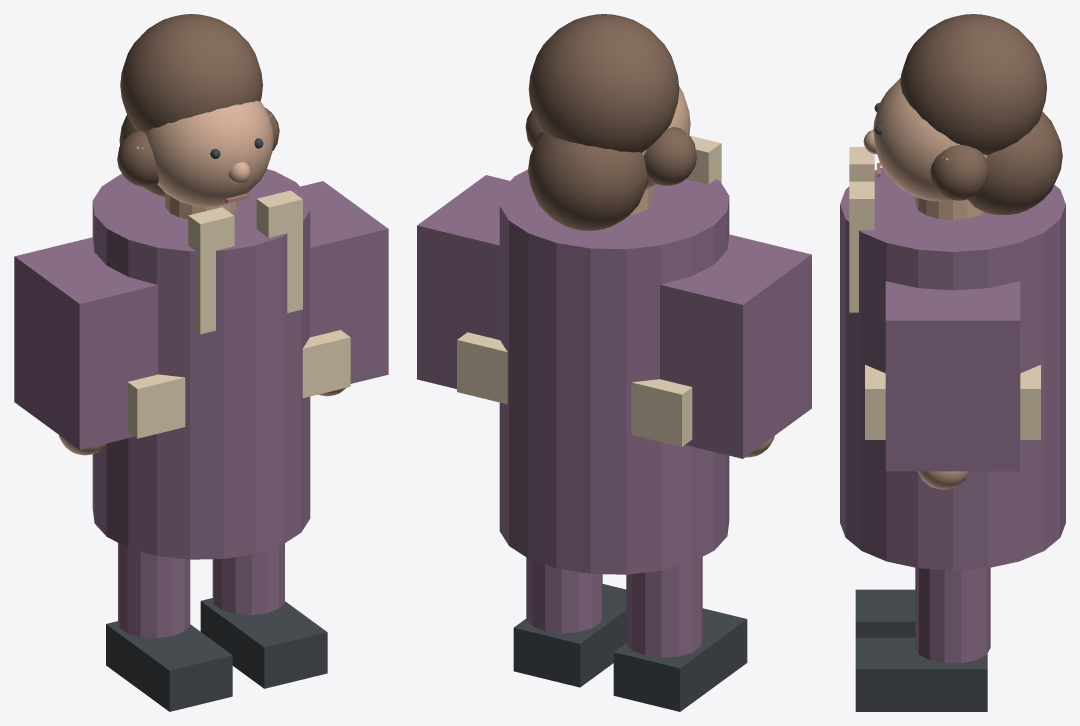
File: player.glb
3 views of the same model, side by side, from view 1: azimuth 30°, elevation 25°; view 2: azimuth 150°, elevation 25°; view 3: azimuth 270°, elevation 25° (orthographic). The views are drawn at different scales.
Visible parts, largest first — view 1: robe torso, left_sleeve, right_sleeve, hair cap, face, left_sandal, right_sandal, obi belt, left_leg, right_leg, robe collar left, robe collar right (+2 smaller); view 2: robe torso, left_sleeve, hair cap, right_sleeve, wig back hair, left_sandal, obi belt, left_leg, right_sandal, right_leg, wig side lock, robe collar left; view 3: robe torso, right_sleeve, hair cap, right_sandal, right_leg, wig back hair, face, obi belt, left_sandal, wig side lock.001, robe collar right, neck (+2 smaller).
Part boxes in pixels (bbox=[...]): robe torso: bbox=[92, 169, 310, 559]; left_sleeve: bbox=[14, 237, 158, 449]; right_sleeve: bbox=[300, 181, 388, 383]; hair cap: bbox=[120, 14, 262, 131]; face: bbox=[144, 101, 273, 206]; left_sandal: bbox=[106, 621, 232, 711]; right_sandal: bbox=[200, 598, 327, 688]; obi belt: bbox=[127, 330, 350, 438]; left_leg: bbox=[118, 543, 190, 638]; right_leg: bbox=[212, 543, 284, 615]; robe collar left: bbox=[188, 207, 234, 334]; robe collar right: bbox=[256, 190, 302, 312]; robe torso: bbox=[499, 169, 729, 574]; left_sleeve: bbox=[660, 234, 811, 458]; hair cap: bbox=[528, 14, 679, 152]; right_sleeve: bbox=[417, 175, 509, 388]; wig back hair: bbox=[528, 132, 648, 230]; left_sandal: bbox=[613, 608, 747, 711]; obi belt: bbox=[457, 332, 692, 446]; left_leg: bbox=[626, 557, 702, 657]; right_sandal: bbox=[513, 584, 626, 687]; right_leg: bbox=[526, 557, 602, 633]; wig side lock: bbox=[644, 127, 696, 185]; robe collar left: bbox=[686, 135, 721, 184]; robe torso: bbox=[840, 167, 1065, 570]; right_sleeve: bbox=[885, 281, 1020, 471]; hair cap: bbox=[900, 14, 1046, 155]; right_sandal: bbox=[855, 637, 987, 711]; right_leg: bbox=[915, 567, 990, 663]; wig back hair: bbox=[968, 111, 1062, 214]; face: bbox=[873, 78, 987, 201]; obi belt: bbox=[865, 365, 1040, 439]; left_sandal: bbox=[855, 589, 915, 637]; wig side lock.001: bbox=[930, 144, 988, 200]; robe collar right: bbox=[849, 181, 874, 312]; neck: bbox=[915, 197, 983, 220].
Size of the model in its own units: 1.17 by 2.29 by 0.72.
